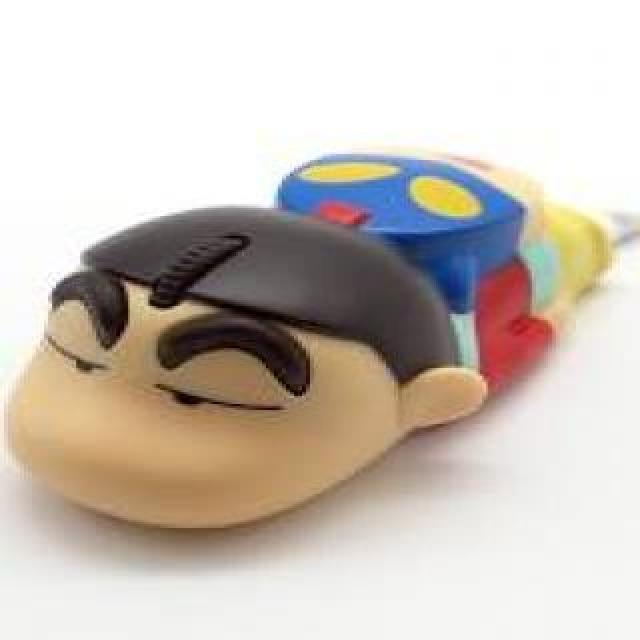mouse: (0, 28, 562, 608)
